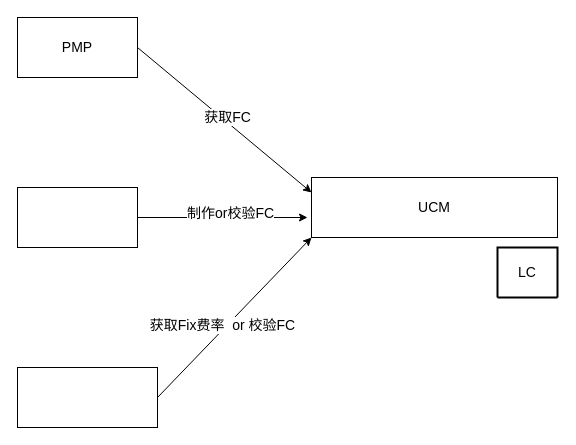
This 576x445 diagram has some shape labels left out. The centre of each missing label's shape, as x and y in pixels:
OMP: pixel 77 217
计费：Iris4 TMS ECP: pixel 87 397
